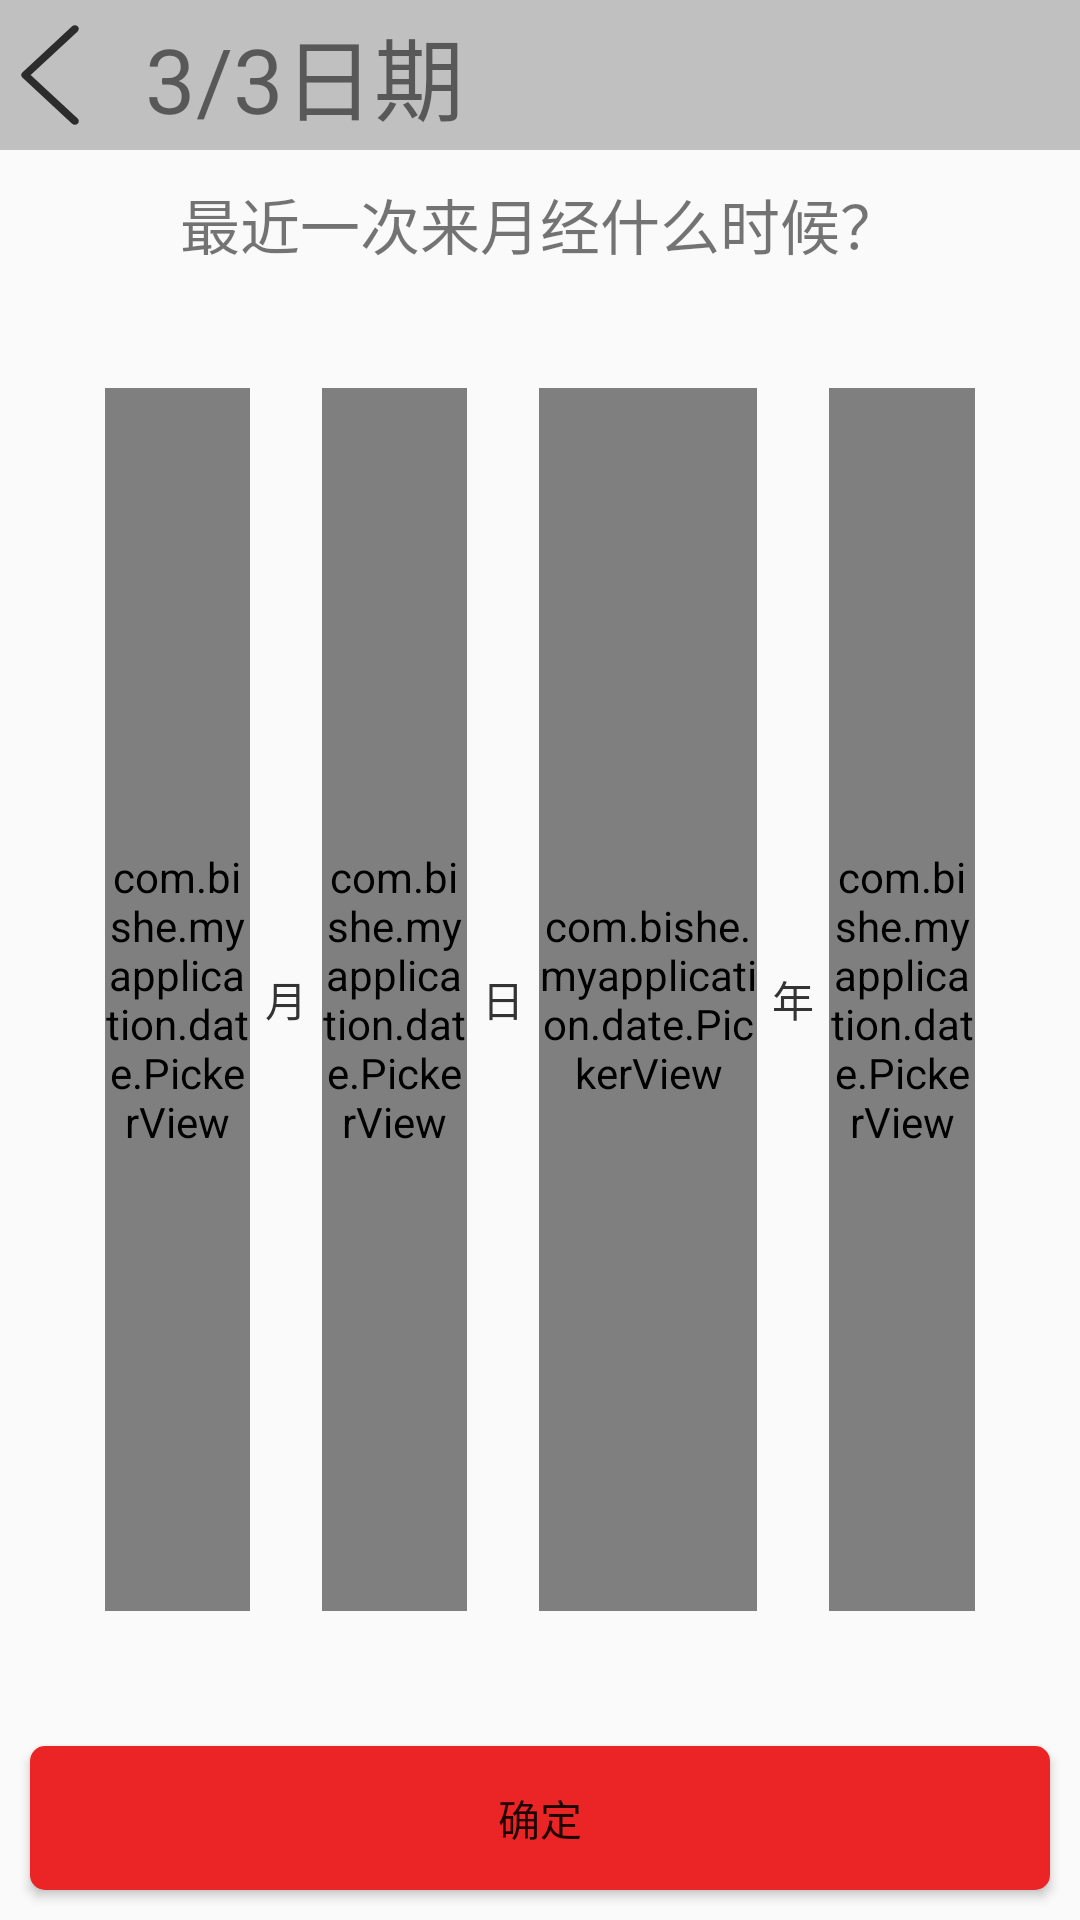

Icons on this 1080px×1920px Android screen, each with the point to tap as point (x, y):
back: point (50, 75)
